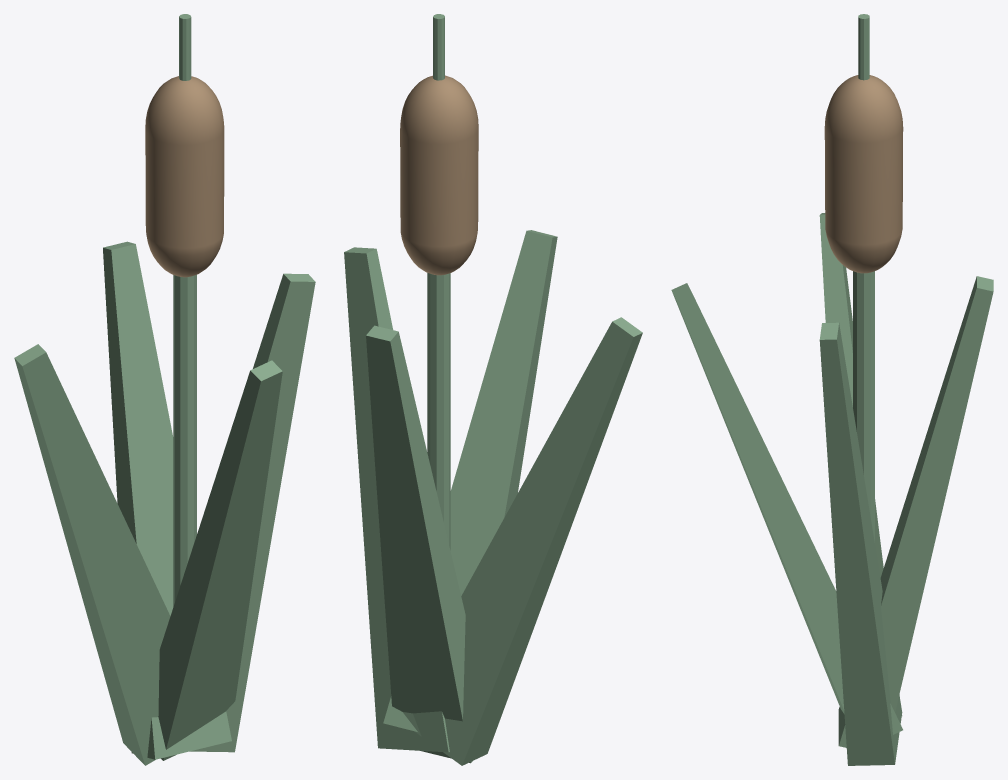
The model's file is Reed.fbx.
3 renders of one model, left to right at view 1: azimuth 30°, elevation 25°; view 2: azimuth 150°, elevation 25°; view 3: azimuth 270°, elevation 25°, orthographic.
Parts seen in each view (by area): view 1: MOD_Reed; view 2: MOD_Reed; view 3: MOD_Reed.
Boxes of the visible parts, x1,y1,x2,y2 form: MOD_Reed: (14, 14, 315, 765); MOD_Reed: (344, 14, 642, 765); MOD_Reed: (671, 14, 993, 765).
Bounding box in the file's own units: 92.85 × 224 × 89.52.
